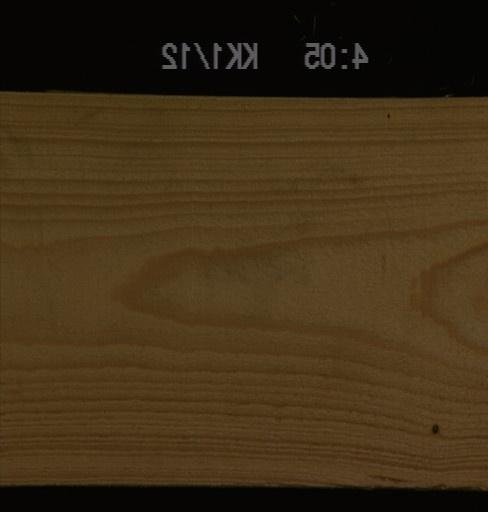dry_knot: (430, 421, 439, 435)
